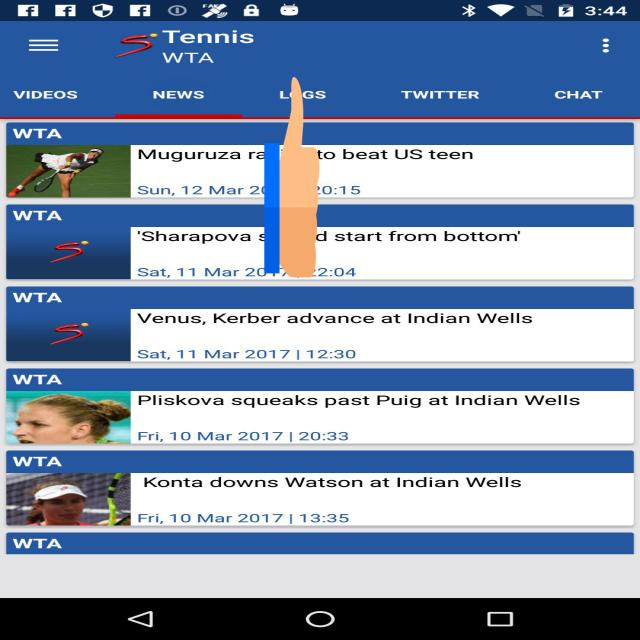privacy zuckering: (264, 72, 320, 282)
